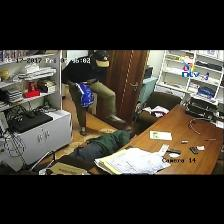person: (62, 51, 125, 135), (69, 127, 136, 162)
